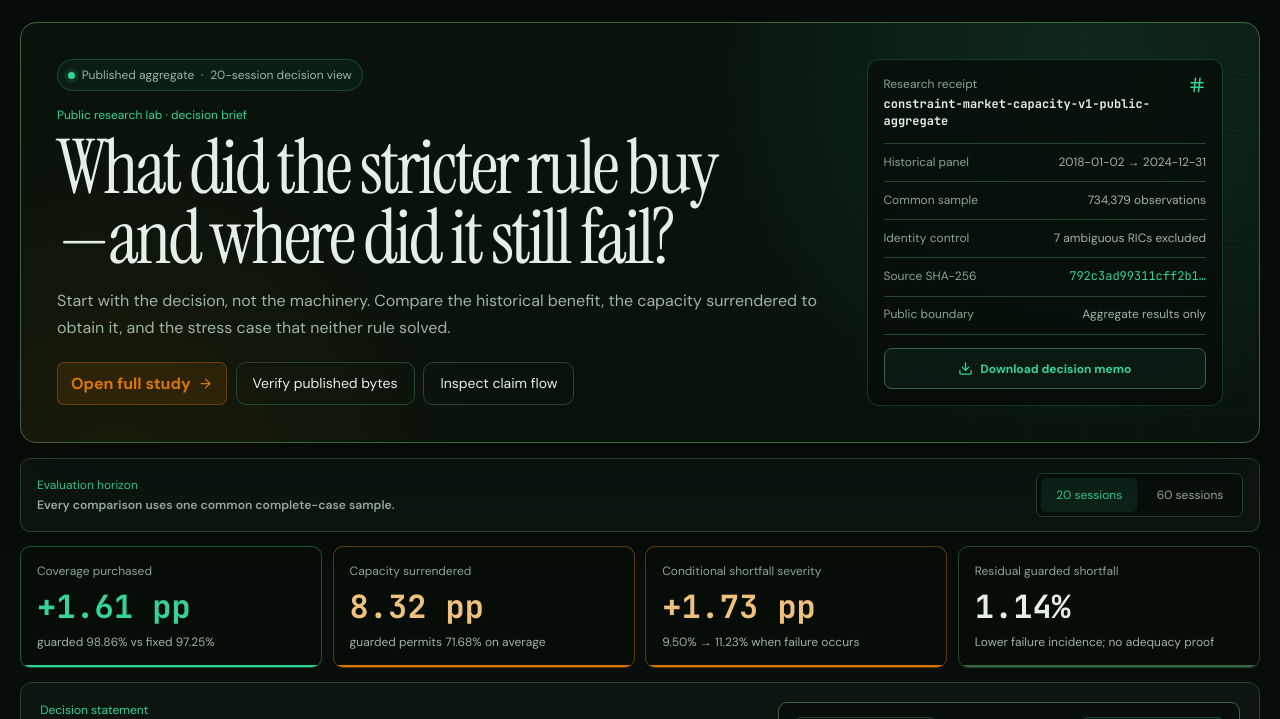
Test: DecisionBrief › switches to the 60-session decision view without refetching the bundle
The image size is (1280, 719).
Expected: the heading "What did the stricter rule buy—and where did it still fail?" is shown, [57, 118, 716, 286]
Click the button "60 sessions": (1190, 495) [1142, 478, 1238, 512]
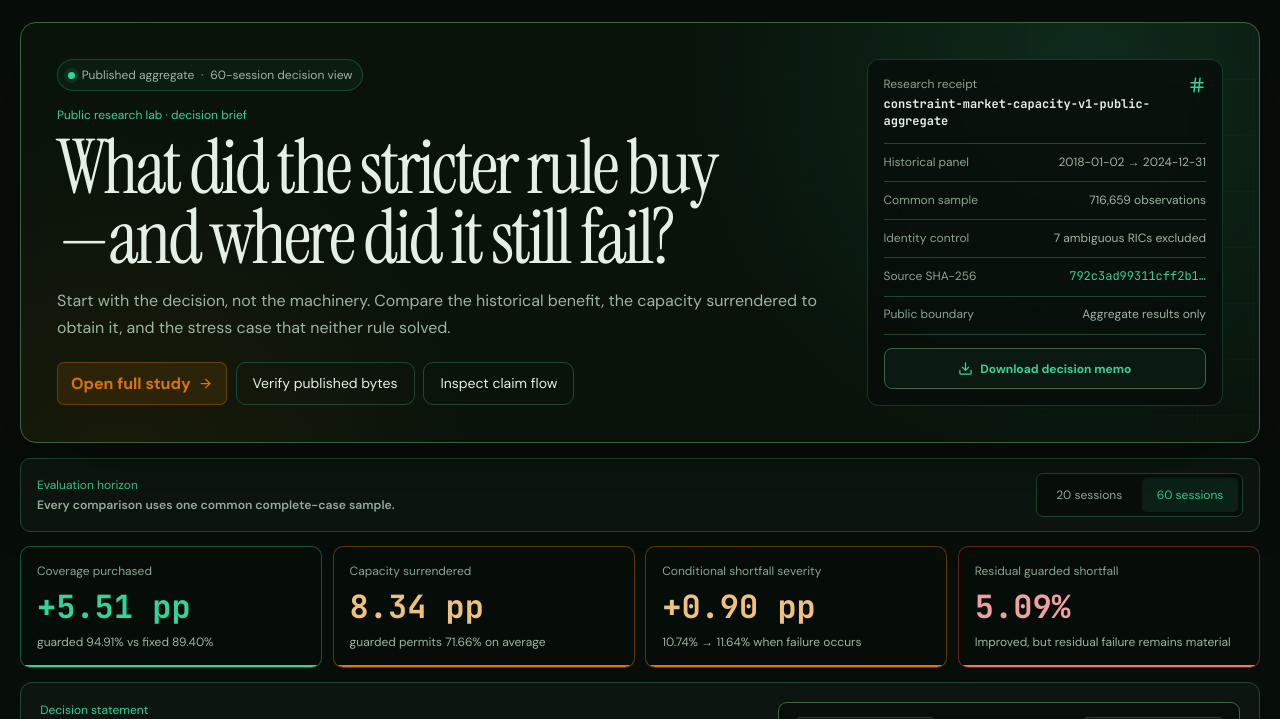
Now the text "+5.51 pp" is shown, box [37, 585, 191, 628]
Now the text "8.34 pp" is shown, box [350, 585, 484, 628]
Now the text "+0.90 pp" is shown, box [662, 585, 816, 628]
